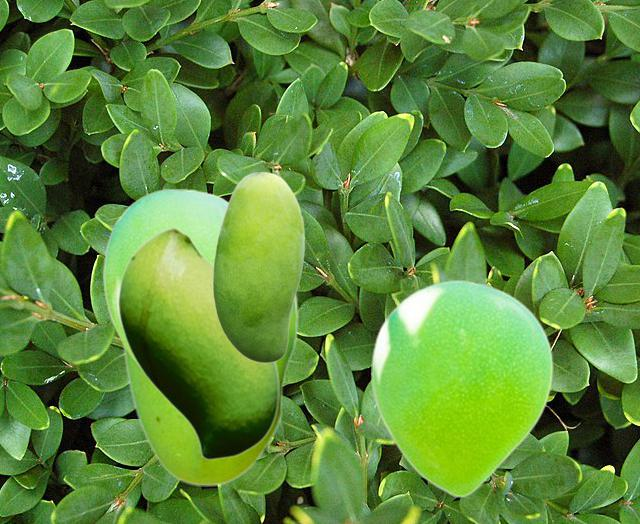green_mango: (121, 199, 297, 485), (371, 279, 552, 497), (117, 226, 278, 459), (102, 188, 228, 373), (212, 171, 304, 362)
